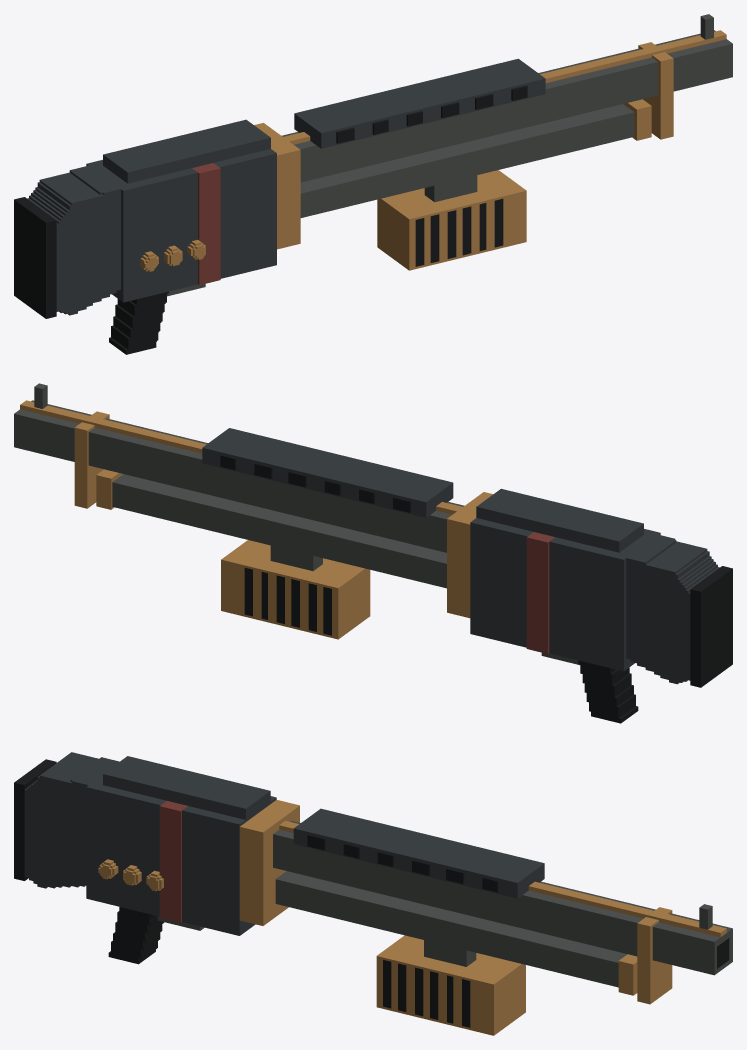
File: bolt_scattergun.glb
The picture shows the model from 3 angles, top to bottom: view 1: azimuth 30°, elevation 25°; view 2: azimuth 150°, elevation 25°; view 3: azimuth 330°, elevation 25°; orthographic projection.
Parts seen in each view (by area): view 1: bolt_scattergun:compound; view 2: bolt_scattergun:compound; view 3: bolt_scattergun:compound.
Boxes of the visible parts, <box> form: bolt_scattergun:compound: <box>14,14,732,354</box>; bolt_scattergun:compound: <box>14,383,732,723</box>; bolt_scattergun:compound: <box>14,752,732,1035</box>.
Bounding box in the file's own units: 1.3 × 0.336 × 0.14.
